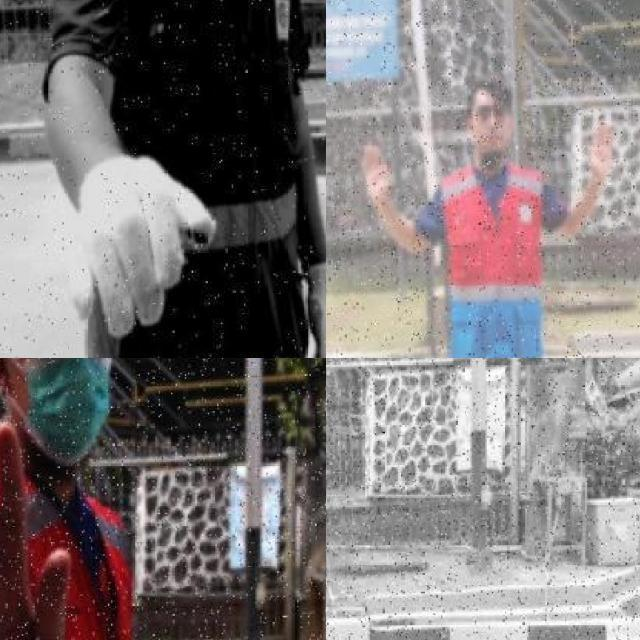apron: (51, 155, 216, 334), (305, 248, 326, 358)
